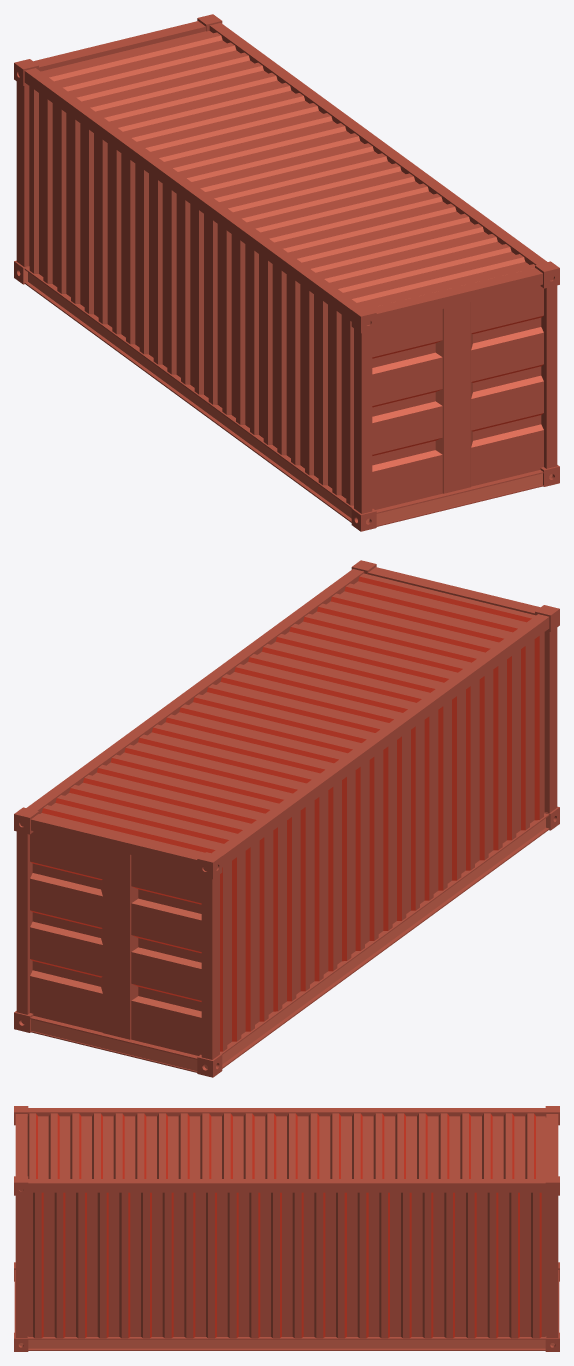
The model's file is Container.fbx.
3 renders of one model, top to bottom at view 1: azimuth 30°, elevation 25°; view 2: azimuth 150°, elevation 25°; view 3: azimuth 270°, elevation 25°, orthographic. The views are drawn at different scales.
Parts seen in each view (by area): view 1: Container; view 2: Container; view 3: Container.
Part boxes in pixels (x1=…): Container: x1=14, y1=14, x2=559, y2=531; Container: x1=14, y1=560, x2=559, y2=1077; Container: x1=14, y1=1106, x2=559, y2=1351.
Size of the model in its own units: 0.6953 by 0.7177 by 2.1.
